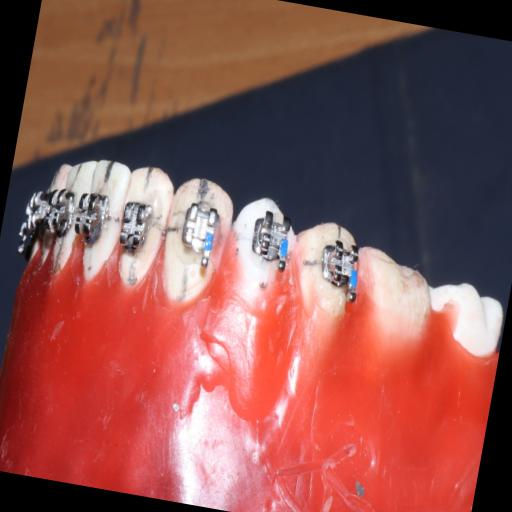incorrect_brace: (172, 198, 226, 279)
